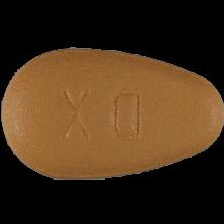21695-918: (0, 0, 224, 224)
